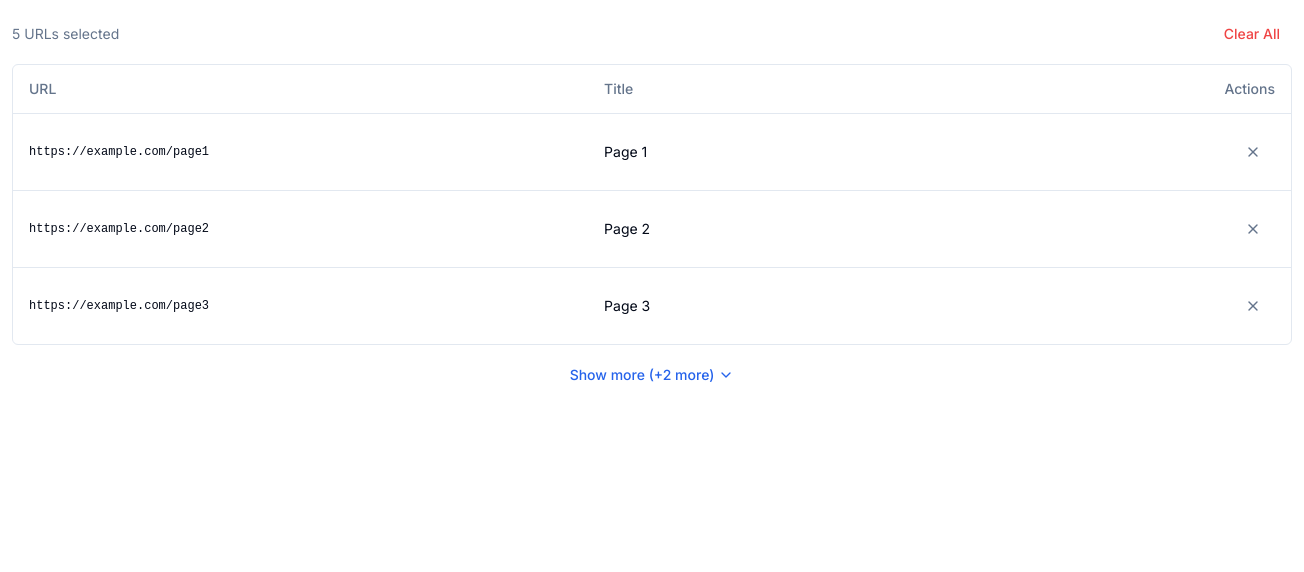
Test case: BatchUrlTable › Accessibility › updates aria-expanded when toggle button is clicked
This screenshot has width=1304, height=572.
Click the button with aria-label "Show 2 more URLs": (652, 374) [558, 352, 746, 396]
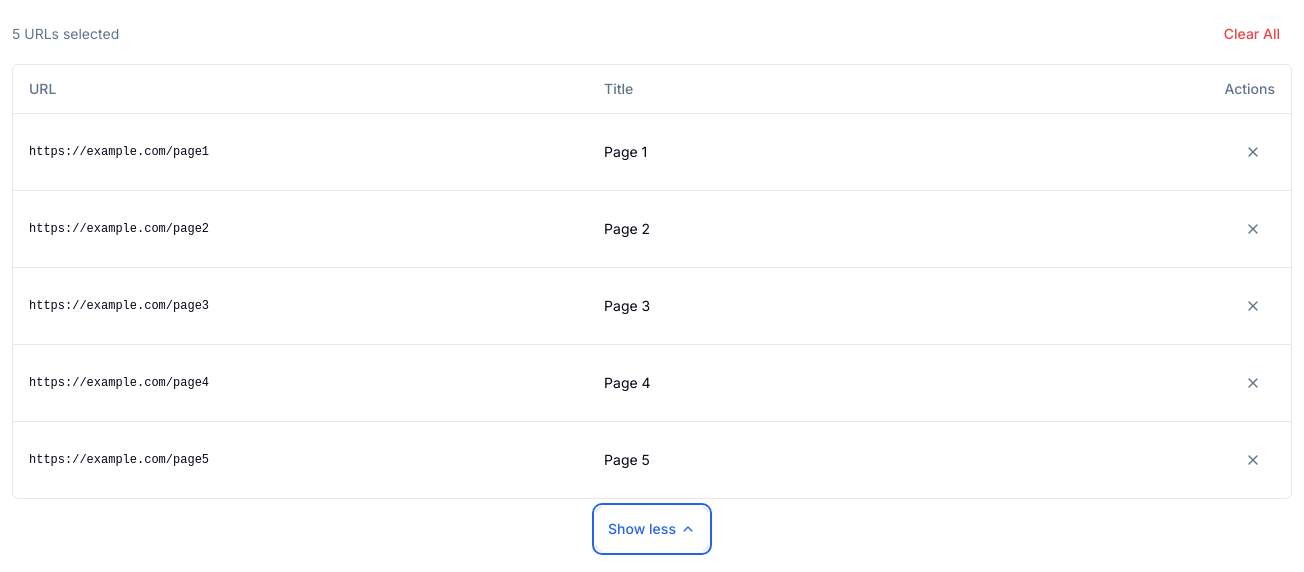
Expected: the button with aria-label "Show less URLs" is expanded, [596, 506, 708, 550]
